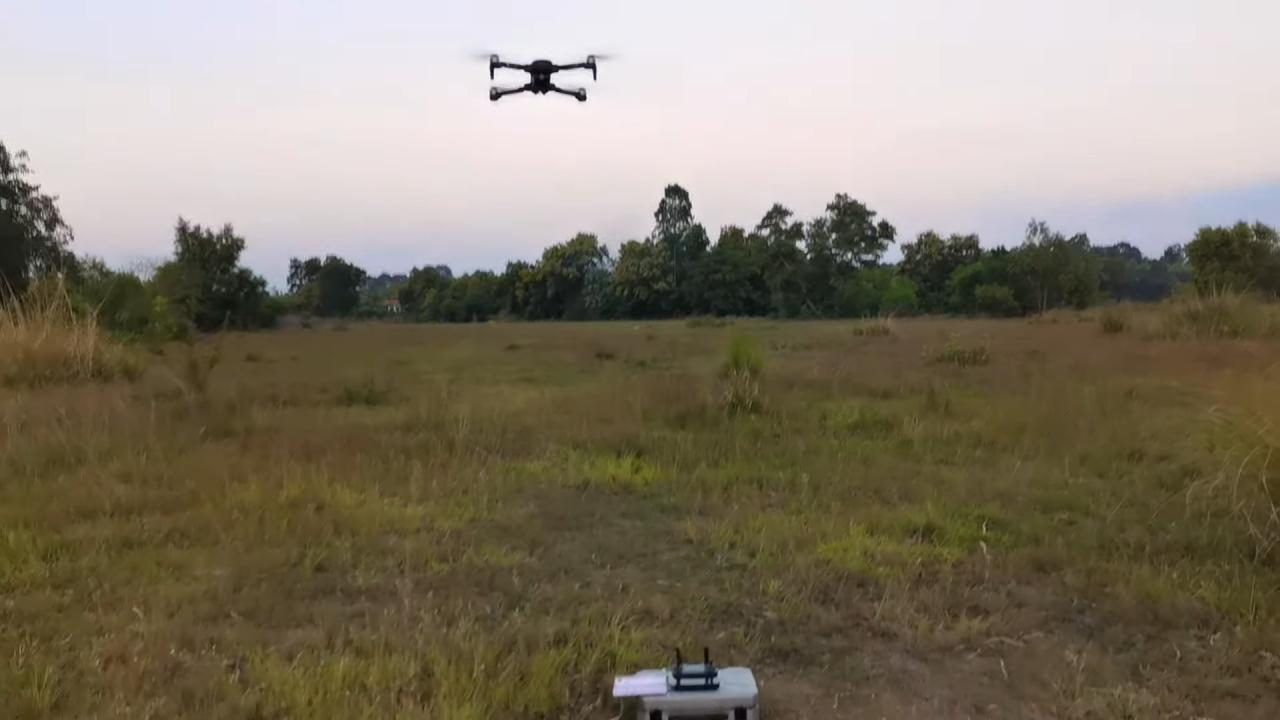Drone: (452, 36, 628, 120)
